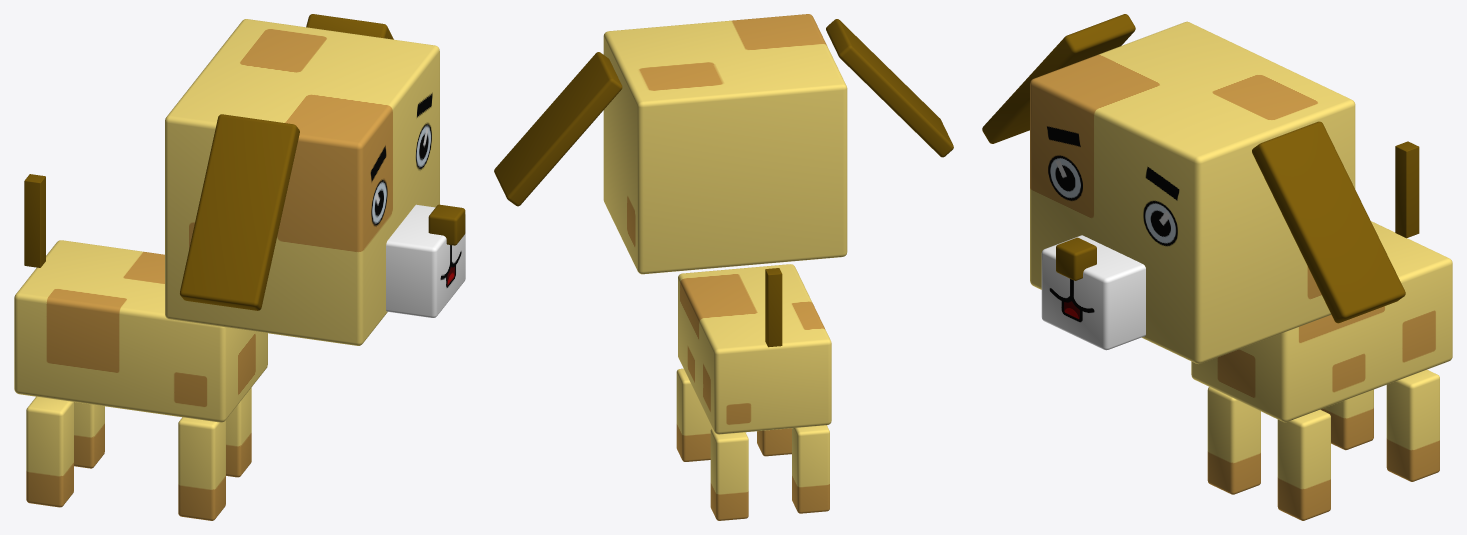
Rendered from boxdog_blender3.gltf.
The picture shows the model from 3 angles, left to right: view 1: azimuth 30°, elevation 25°; view 2: azimuth 150°, elevation 25°; view 3: azimuth 270°, elevation 25°; orthographic projection. The views are drawn at different scales.
Visible parts, largest first — view 1: pCube1, pCube3, pCube14, pCube2, pCube17, pCube5, pCube9, pCube16, pCube15, pCube13, pCube4; view 2: pCube1, pCube3, pCube13, pCube14, pCube16, pCube17, pCube15, pCube9, pCube5; view 3: pCube1, pCube3, pCube13, pCube2, pCube16, pCube15, pCube5, pCube14, pCube9, pCube17, pCube4.
Part boxes in pixels (left/top/right/bottom): pCube1: left=165, top=19, right=439, bottom=345; pCube3: left=14, top=240, right=267, bottom=422; pCube14: left=180, top=114, right=299, bottom=310; pCube2: left=386, top=204, right=465, bottom=317; pCube17: left=26, top=396, right=73, bottom=507; pCube5: left=178, top=417, right=225, bottom=520; pCube9: left=24, top=174, right=45, bottom=267; pCube16: left=74, top=402, right=104, bottom=468; pCube15: left=226, top=387, right=251, bottom=477; pCube13: left=306, top=14, right=393, bottom=39; pCube4: left=428, top=204, right=465, bottom=245; pCube1: left=603, top=14, right=847, bottom=274; pCube3: left=678, top=264, right=831, bottom=434; pCube13: left=494, top=52, right=622, bottom=206; pCube14: left=826, top=19, right=953, bottom=157; pCube16: left=710, top=428, right=748, bottom=520; pCube17: left=792, top=425, right=829, bottom=513; pCube15: left=676, top=368, right=712, bottom=461; pCube9: left=765, top=268, right=782, bottom=347; pCube5: left=757, top=428, right=791, bottom=456; pCube1: left=1030, top=21, right=1355, bottom=363; pCube3: left=1191, top=221, right=1452, bottom=422; pCube13: left=1252, top=121, right=1405, bottom=323; pCube2: left=1041, top=235, right=1145, bottom=350; pCube16: left=1386, top=369, right=1439, bottom=481; pCube15: left=1277, top=409, right=1330, bottom=520; pCube5: left=1207, top=387, right=1260, bottom=494; pCube14: left=982, top=14, right=1135, bottom=143; pCube9: left=1395, top=141, right=1419, bottom=238; pCube17: left=1320, top=389, right=1373, bottom=450; pCube4: left=1056, top=237, right=1096, bottom=280.
Size of the model in its own units: 2.16 by 2.29 by 2.14.
Materials: 5 (4 with a texture image).
